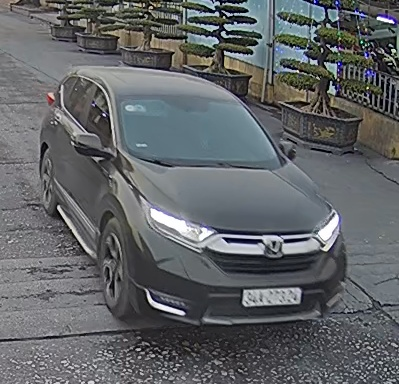vehicle plate: (238, 279, 309, 312)
